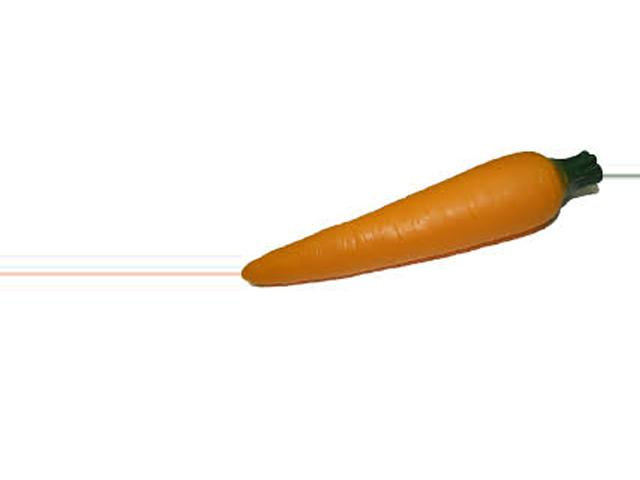carrot: (243, 147, 604, 286)
